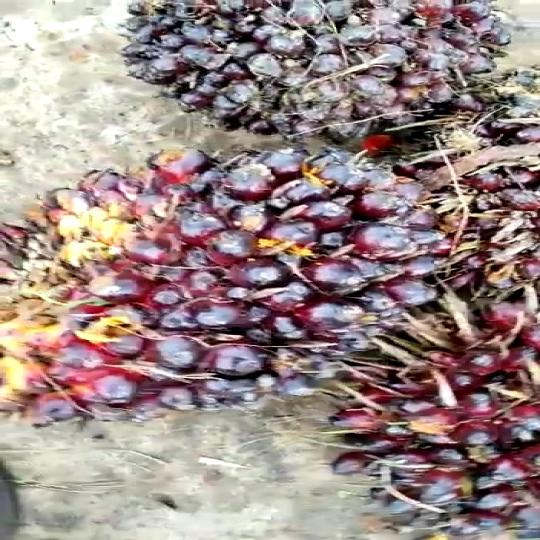kurang masak: (0, 131, 436, 429), (124, 0, 540, 142)
